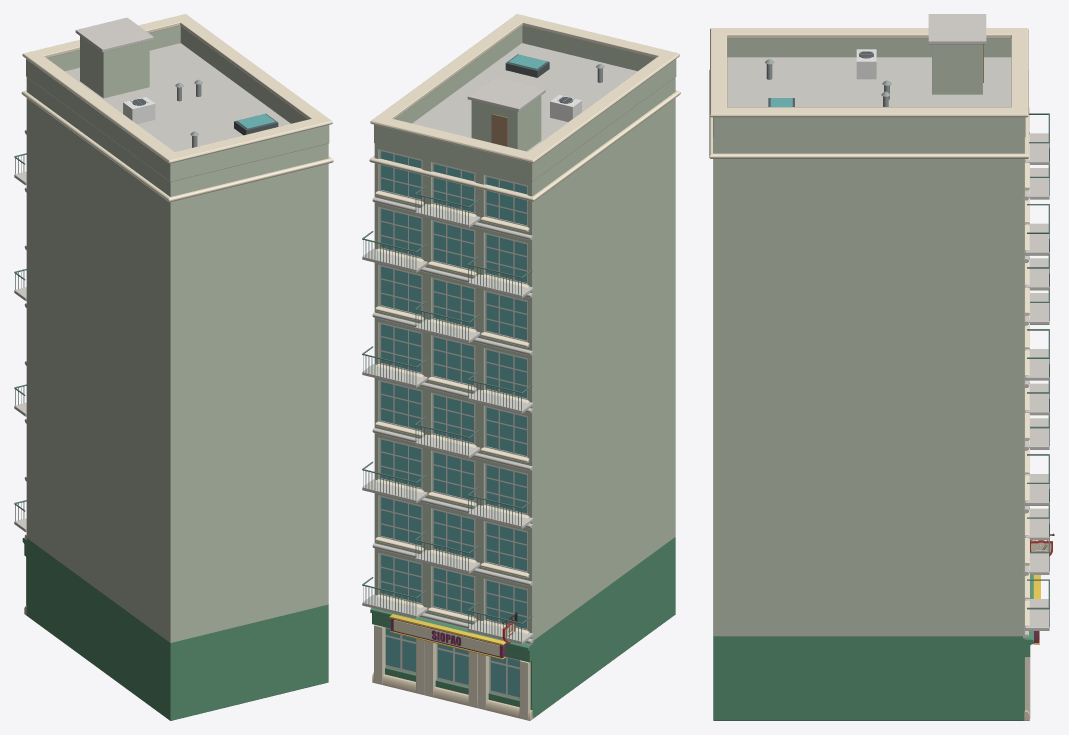
File: far_panel_00.glb
The picture shows the model from 3 angles, left to right: view 1: azimuth 30°, elevation 25°; view 2: azimuth 150°, elevation 25°; view 3: azimuth 270°, elevation 25°; orthographic projection. The views are drawn at different scales.
Parts seen in each view (by area): view 1: shell, trim, props; view 2: shell, trim, props, frames, sign_siopao; view 3: shell, trim, props.
Boxes of the visible parts, bbox=[...] form: shell: bbox=[26, 43, 328, 720]; trim: bbox=[21, 14, 333, 615]; props: bbox=[14, 17, 278, 532]; shell: bbox=[374, 43, 675, 718]; trim: bbox=[369, 14, 680, 720]; props: bbox=[362, 54, 604, 644]; frames: bbox=[379, 149, 528, 699]; sign_siopao: bbox=[389, 614, 505, 659]; shell: bbox=[713, 57, 1024, 720]; trim: bbox=[709, 28, 1033, 720]; props: bbox=[765, 14, 1049, 630].
Size of the model in its own units: 9.26 by 31.72 by 15.51.
